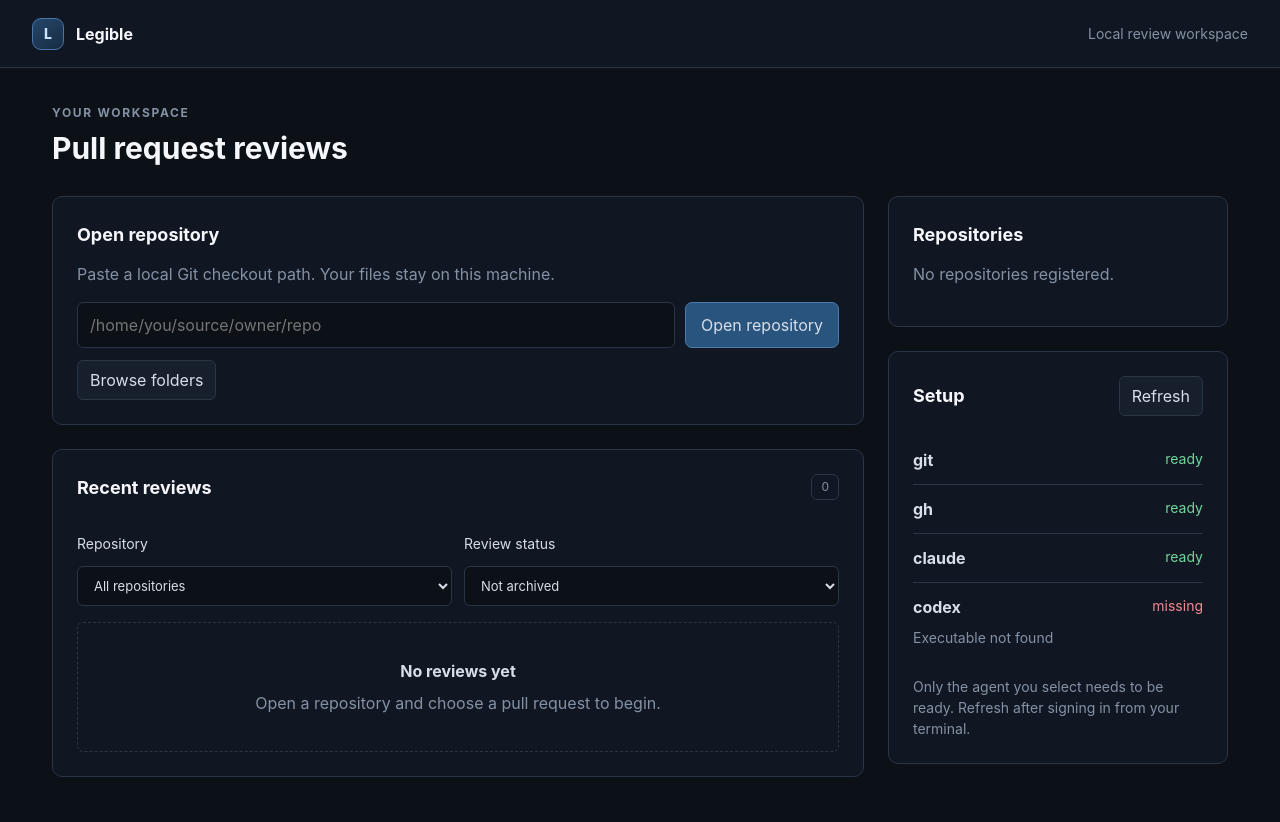
Test: Review entry screens › retries a failed browse and keeps the chosen path visible if registration is rejected
What coordinates should you click on to do the following:
click the button "Browse folders"
I would click on:
 (147, 380)
Its box is [77,360,216,400].
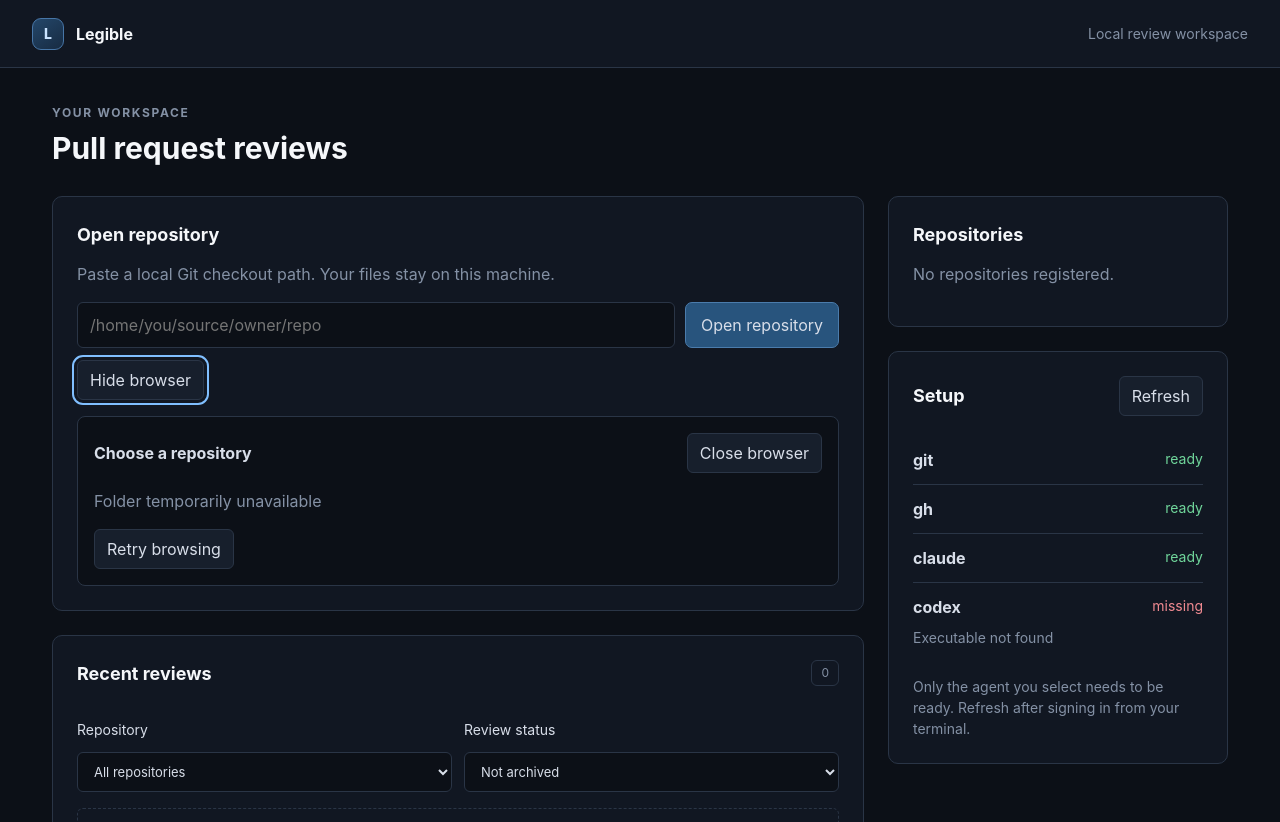
Expected: the text "Folder temporarily unavailable" is shown, [94,490,322,510]
What coordinates should you click on to do the following:
click the button "Retry browsing"
I would click on:
 (164, 548)
Its box is [94,528,234,568].
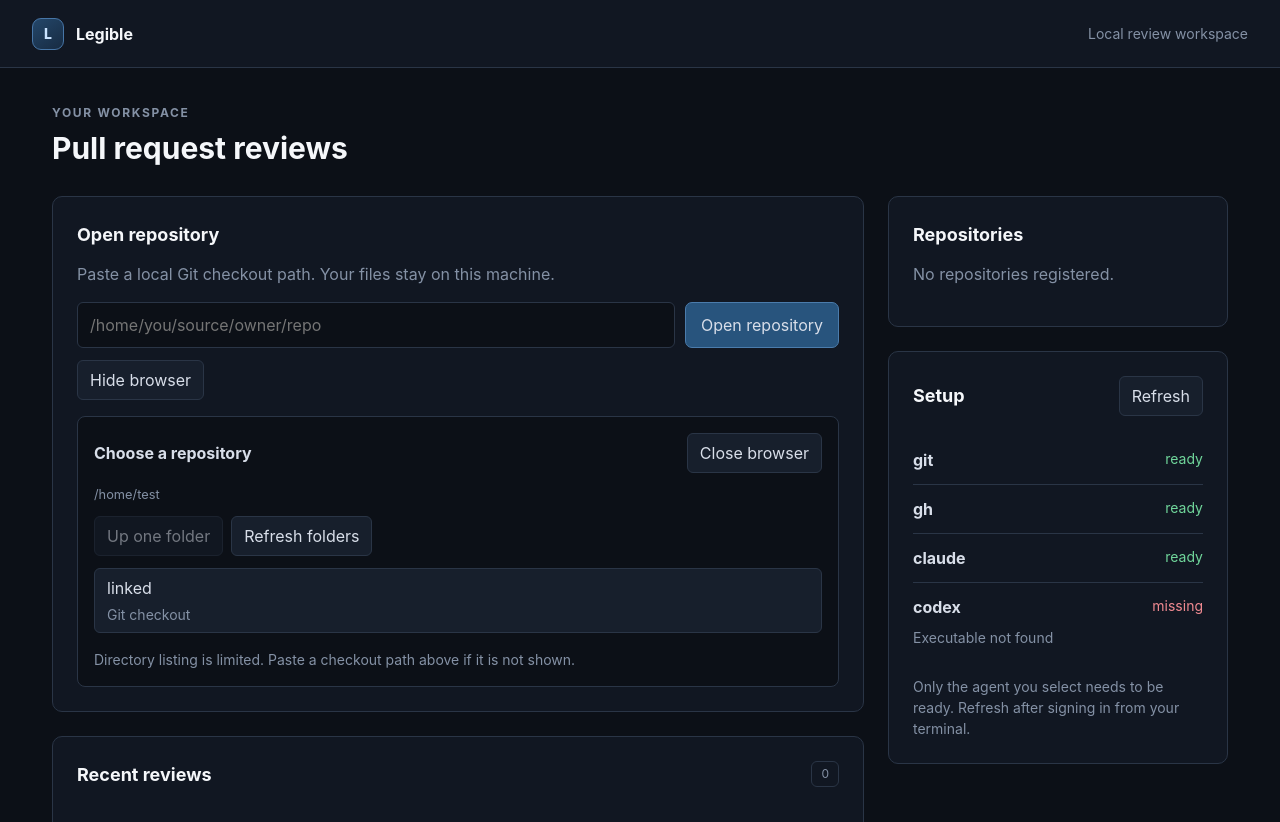
Expected: the text "Directory listing is limited. Paste a checkout path above if it is not shown." is shown, [94,651,575,668]
What coordinates should you click on to do the following:
click the button with aria-label "Open repository linked"
I would click on:
 (129, 588)
Its box is [94,568,822,633].
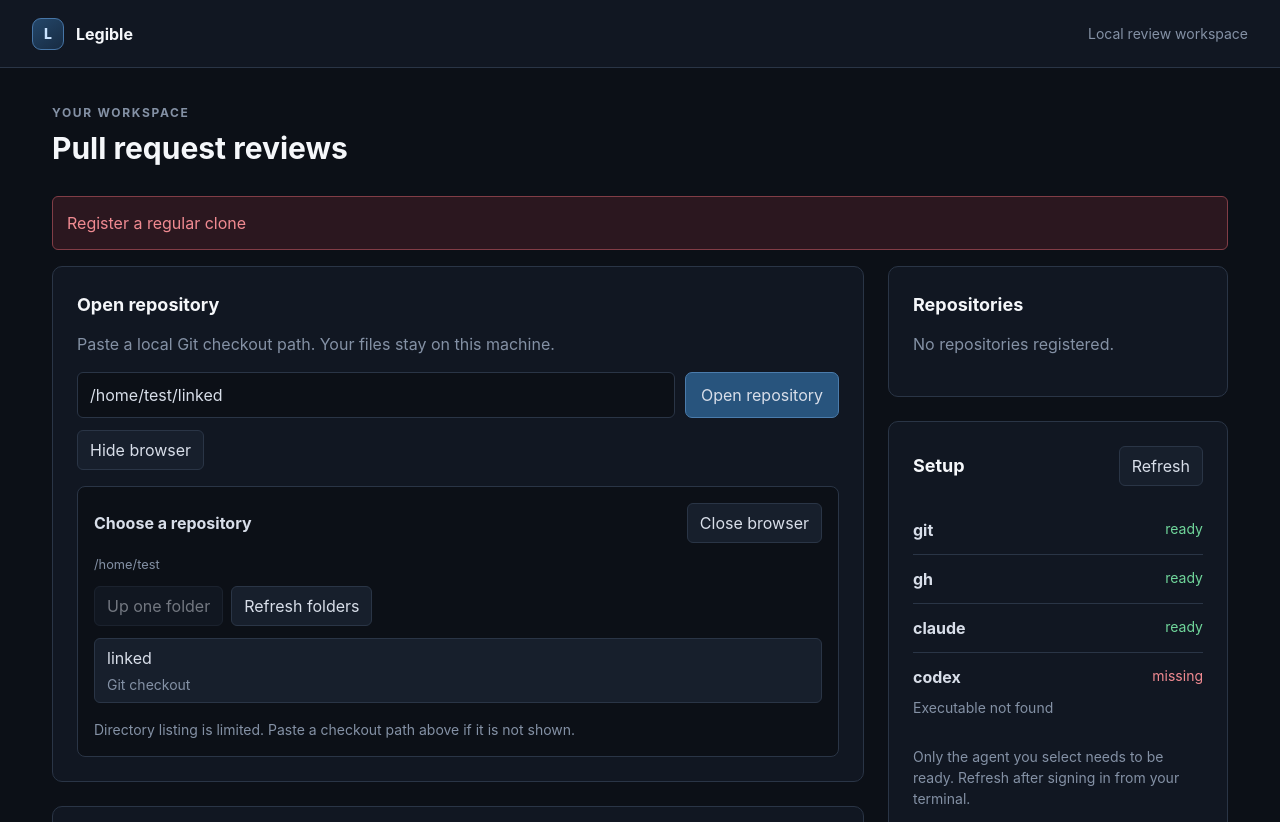
Expected: the button with aria-label "Open repository linked" is shown, [94,638,822,703]
Expected: the message "Register a regular clone" is shown, [52,196,1228,250]
Expected: the field named "Repository path" holds "/home/test/linked ", [77,372,675,418]
